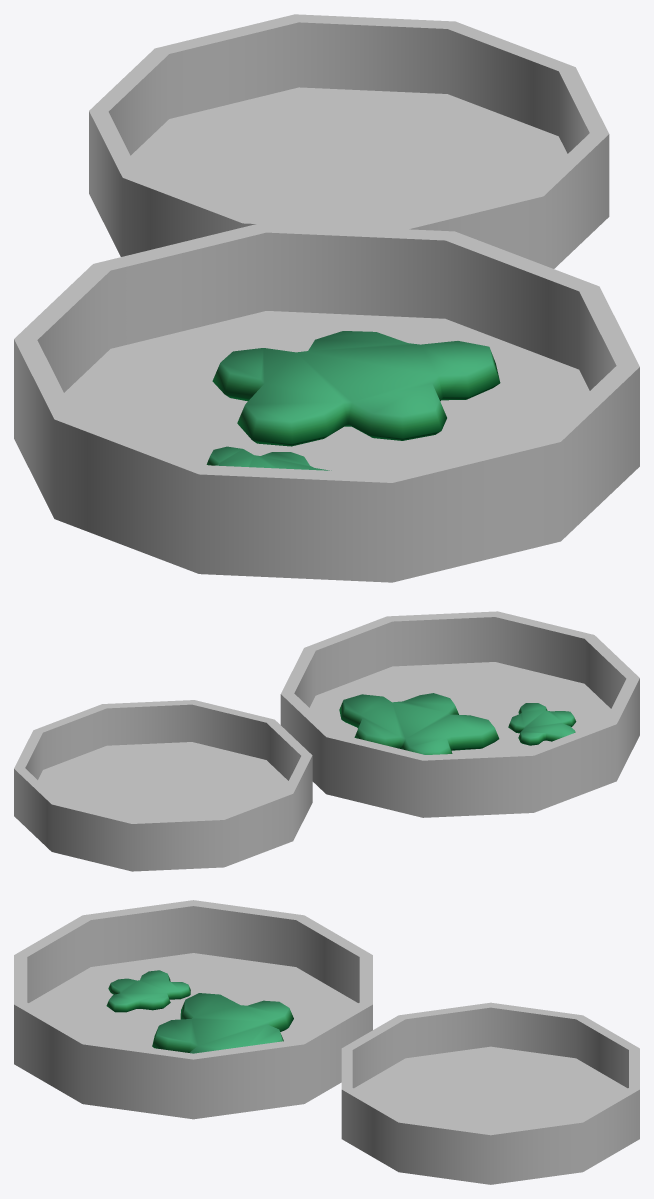
Rendered from CR_sci_Petridish_001.FBX.
The picture shows the model from 3 angles, top to bottom: view 1: azimuth 30°, elevation 25°; view 2: azimuth 150°, elevation 25°; view 3: azimuth 270°, elevation 25°; orthographic projection. The views are drawn at different scales.
Parts seen in each view (by area): view 1: CR_sci_Petridish_001_al, CR_sci_Petridish_001; view 2: CR_sci_Petridish_001_al, CR_sci_Petridish_001; view 3: CR_sci_Petridish_001_al, CR_sci_Petridish_001.
Boxes of the visible parts, x1,y1,x2,y2 form: CR_sci_Petridish_001_al: (14,14,639,582); CR_sci_Petridish_001: (206,331,500,470); CR_sci_Petridish_001_al: (14,611,639,871); CR_sci_Petridish_001: (339,693,576,754); CR_sci_Petridish_001_al: (14,900,639,1184); CR_sci_Petridish_001: (106,970,293,1053).
Bounding box in the file's own units: 17.01 × 2.11 × 19.99.
